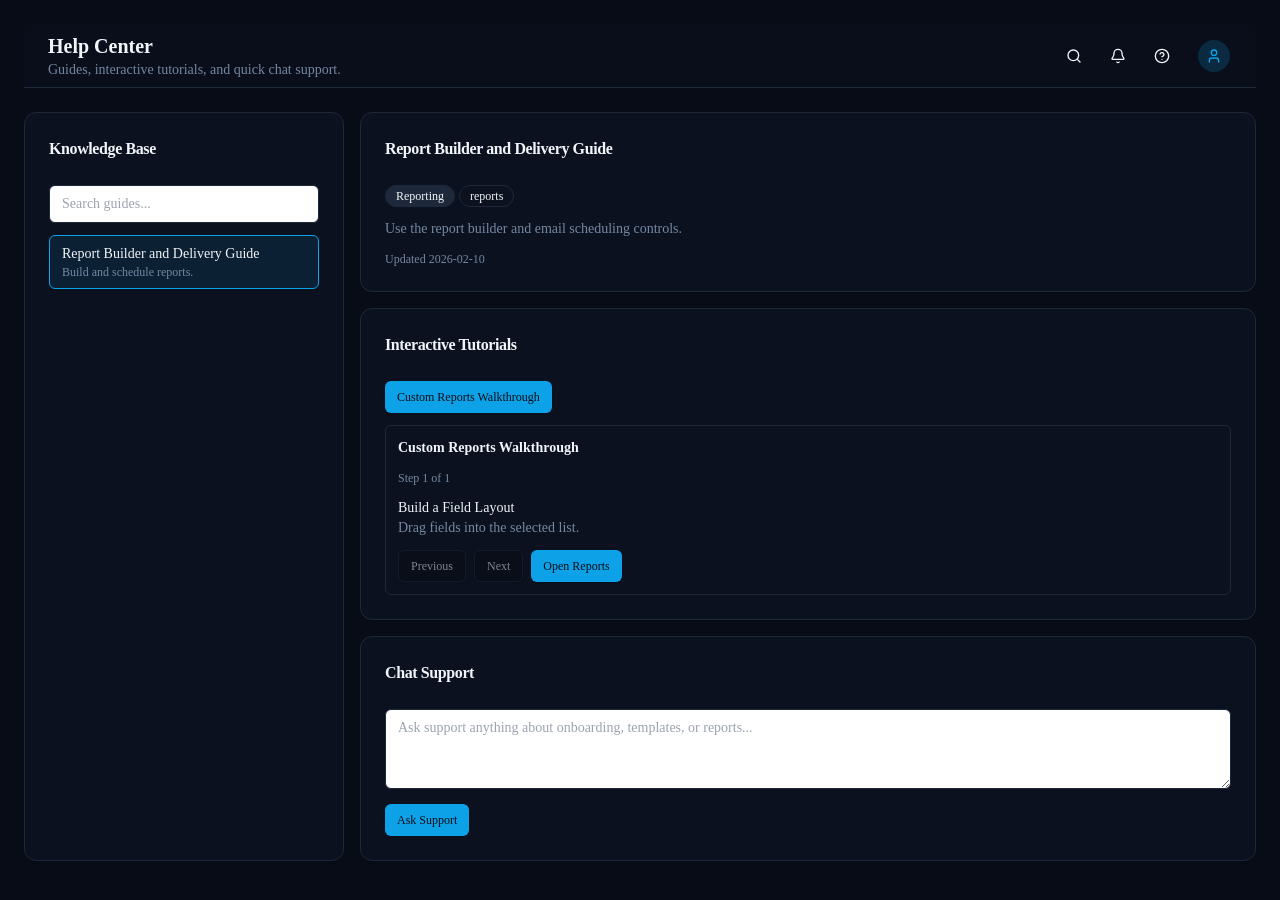
Test case: Help center page › renders help resources and support chat response
The image size is (1280, 900).
Expected: the text "Report Builder and Delivery Guide" is shown, [62,246,260,261]
Expected: the button "Custom Reports Walkthrough" is shown, [385,381,552,413]
Replace the text in the text box with placeholder "Ask support anything about onboarding, templates, or reports..." with "How do I schedule reports?": (808, 749) [385,709,1231,789]
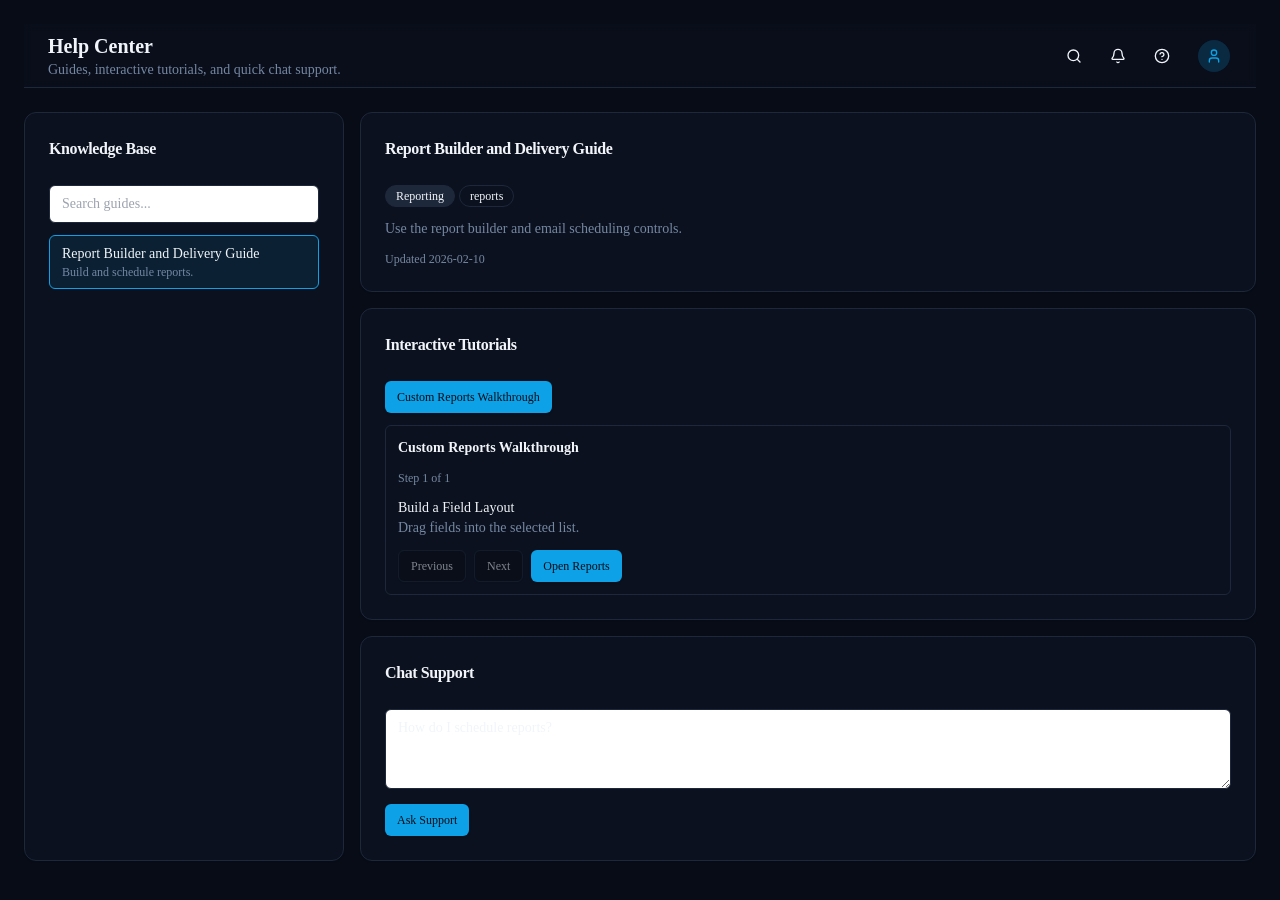
Click the button "Ask Support": (427, 820) [385,804,469,836]
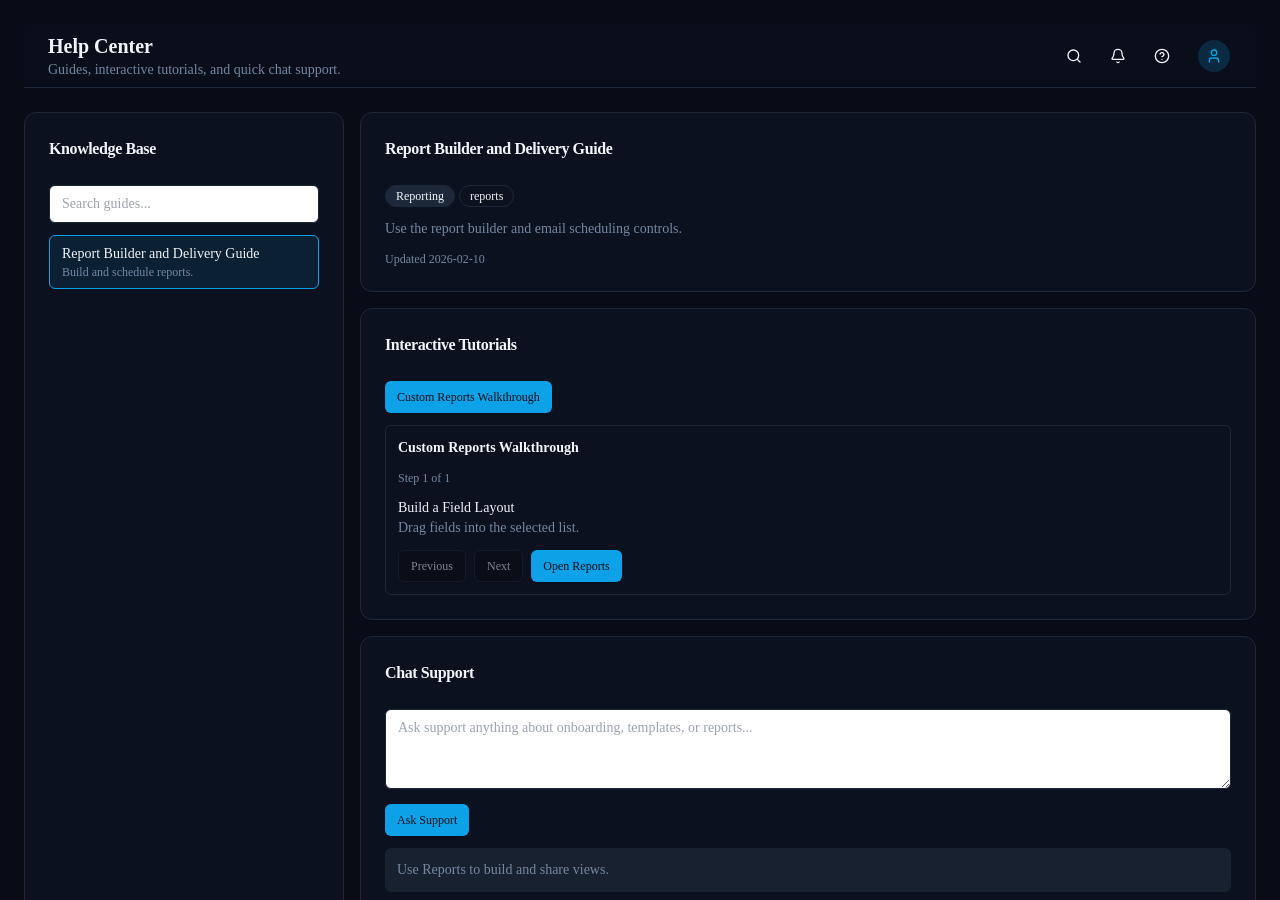
Now the text "Use Reports to build and share views." is shown, box [385,848,1231,892]
